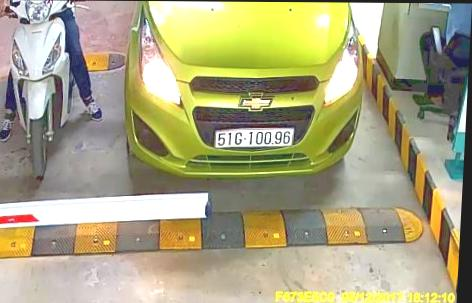License_Plate: (211, 123, 299, 153)
